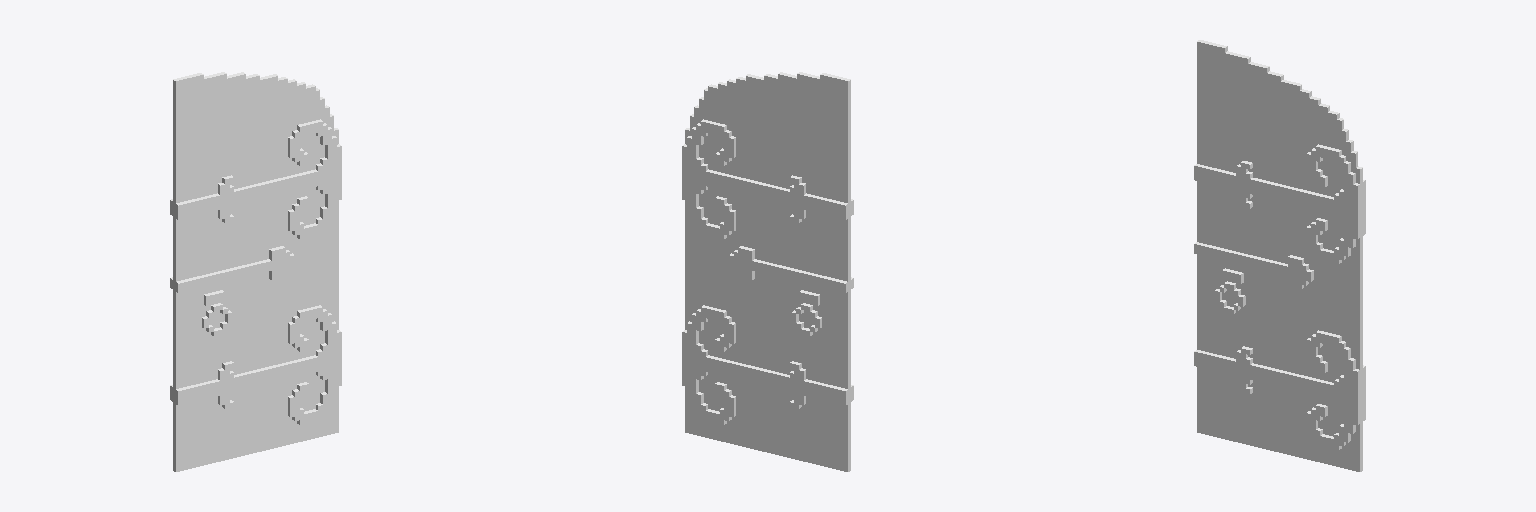
The model's file is PuertaDobleVerde-0.obj.
3 views of the same model, side by side, from view 1: azimuth 30°, elevation 25°; view 2: azimuth 150°, elevation 25°; view 3: azimuth 330°, elevation 25° (orthographic).
Parts seen in each view (by area): view 1: object 1; view 2: object 1; view 3: object 1.
Boxes of the visible parts, x1,y1,x2,y2 form: object 1: [170, 72, 341, 471]; object 1: [682, 72, 853, 471]; object 1: [1194, 40, 1365, 471].
Bounding box in the file's own units: 3.5 × 8 × 0.5.